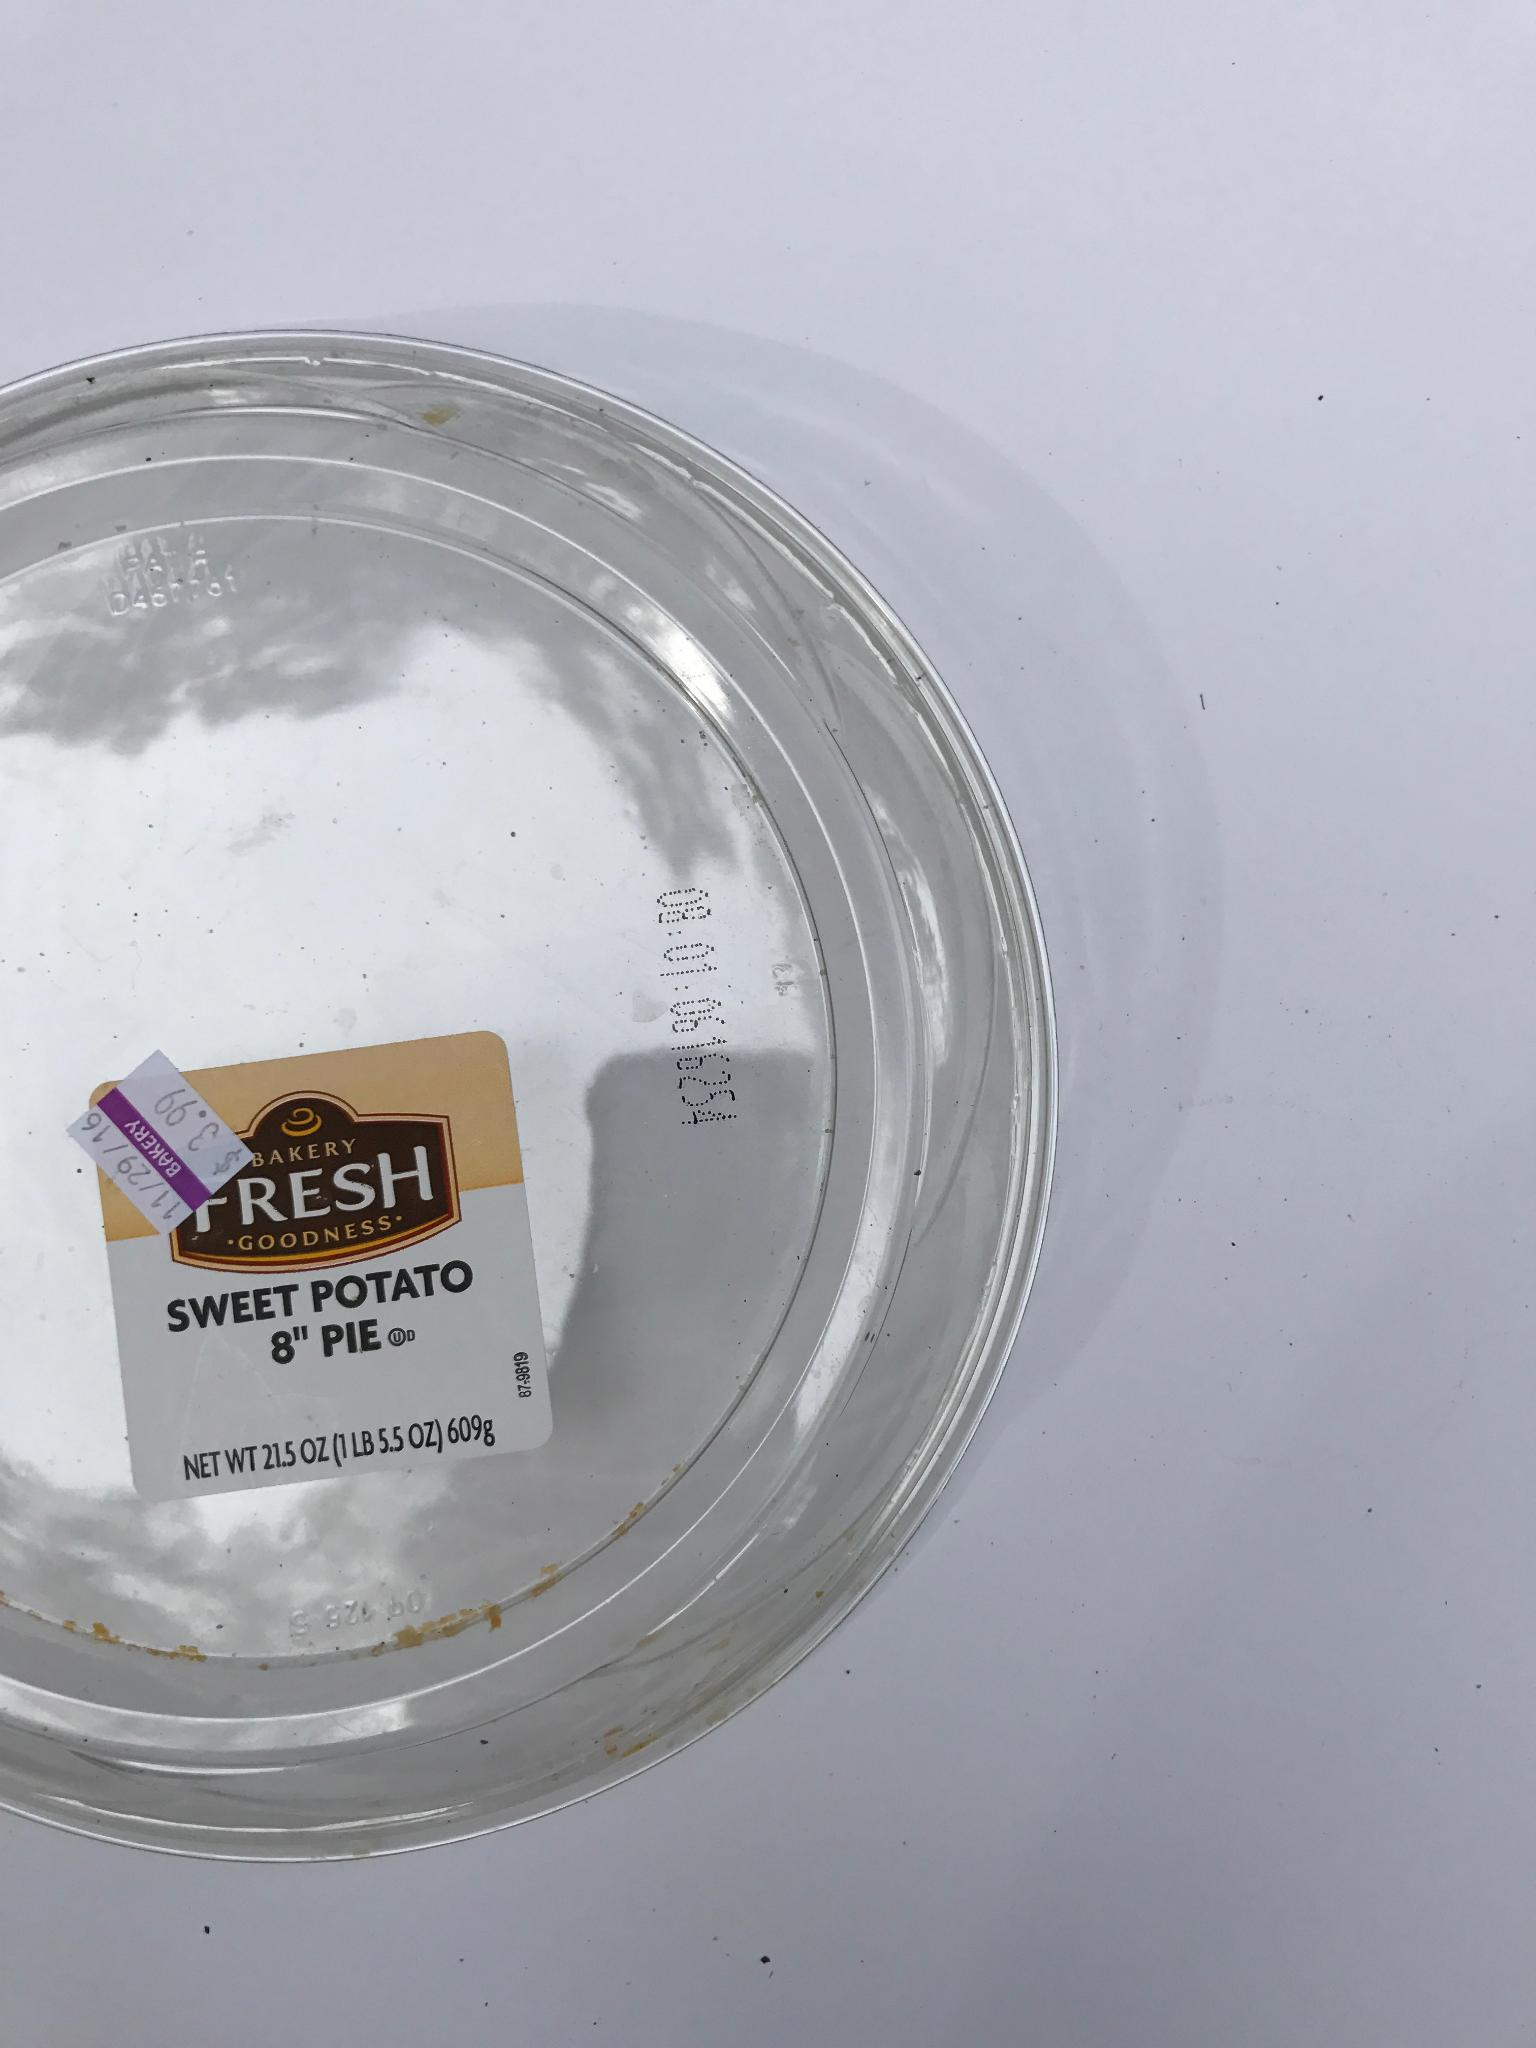Plastic: (0, 306, 1075, 1888)
